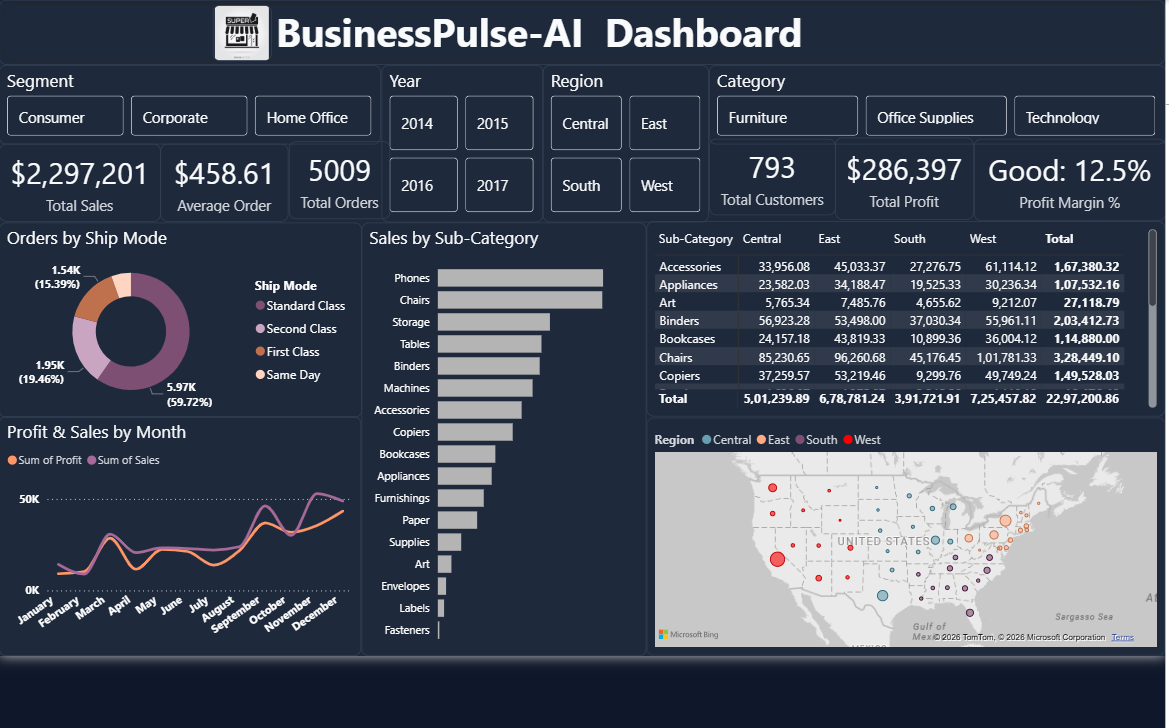

The dashboard page shown, as its layout file describes it:
{"tool":"powerbi","page":{"name":"Page 1","canvas":[1280,720],"ordinal":0},"visuals":[{"type":"shape","box":[0,0,1280.3,71.4],"z":0},{"type":"image","box":[234.6,5.5,64.5,61.7],"z":1000},{"type":"textbox","box":[299.1,0,981.1,71.4],"z":2000},{"type":"card","fields":{"Values":["Sample - Superstore.Total Sales"]},"box":[0,157.7,177.3,85.6],"z":3000},{"type":"advancedSlicerVisual","fields":{"Values":["Sample - Superstore.Order Date.Variation.Date Hierarchy.Year"]},"box":[419.4,70.9,177.3,172.4],"z":4000},{"type":"advancedSlicerVisual","fields":{"Values":["Sample - Superstore.Region"]},"box":[596.7,70.9,182.2,172.4],"z":5000},{"type":"advancedSlicerVisual","fields":{"Values":["Sample - Superstore.Segment"]},"box":[0,70.9,419.4,86.8],"z":6000},{"type":"advancedSlicerVisual","fields":{"Values":["Sample - Superstore.Category"]},"box":[778.9,70.9,501.4,86.8],"z":7000},{"type":"card","fields":{"Values":["Sample - Superstore.Total Profit"]},"box":[918.3,150.4,151.6,90.5],"z":8000},{"type":"card","fields":{"Values":["Sample - Superstore.Profit Margin %"]},"box":[1070,152.9,210.3,90.5],"z":9000},{"type":"card","fields":{"Values":["Sample - Superstore.Average Order"]},"box":[177.3,157.7,140.6,85.6],"z":10000},{"type":"card","fields":{"Values":["Sample - Superstore.Total Orders"]},"box":[317.9,155.3,111.3,85.6],"z":11000},{"type":"card","fields":{"Values":["Sample - Superstore.Total Customers"]},"box":[778.9,152.9,139.4,84.4],"z":12000},{"type":"lineChart","title":"Profit & Sales by Month","fields":{"Category":["Sample - Superstore.Order Date.Variation.Date Hierarchy.Month"],"Y":["Sum(Sample - Superstore.Profit)"],"Y2":["Sum(Sample - Superstore.Sales)"]},"box":[0,456.9,397.9,263.5],"z":13000},{"type":"map","fields":{"Category":["Sample - Superstore.State"],"Series":["Sample - Superstore.Region"],"Size":["Sample - Superstore.Total Orders"]},"box":[710.6,458.4,569.4,261.8],"z":14000},{"type":"donutChart","title":"Orders by Ship Mode","fields":{"Category":["Sample - Superstore.Ship Mode"],"Y":["CountNonNull(Sample - Superstore.Order ID)"]},"box":[0,243.7,398.1,214.7],"z":15000},{"type":"clusteredBarChart","title":"Sales by Sub-Category","fields":{"Category":["Sample - Superstore.Sub-Category"],"Y":["Sum(Sample - Superstore.Sales)"]},"box":[397.9,244.3,312.9,476.2],"z":16000},{"type":"pivotTable","fields":{"Rows":["Sample - Superstore.Sub-Category"],"Columns":["Sample - Superstore.Region"],"Values":["Sum(Sample - Superstore.Sales)"]},"box":[710.8,242.9,569.5,214.1],"z":17000}]}

Visuals, with their boxes on the page's 1280x720 design canvas (x1, y1, x2, y2). These are canvas units, not pixel positions in the 1169x728 screenshot, which may show the page scaled, cropped or inside an application window:
shape: crop(0, 0, 1280, 71)
image: crop(235, 6, 299, 67)
textbox: crop(299, 0, 1280, 71)
card - Sample - Superstore.Total Sales: crop(0, 158, 177, 243)
advancedSlicerVisual - Sample - Superstore.Order Date.Variation.Date Hierarchy.Year: crop(419, 71, 597, 243)
advancedSlicerVisual - Sample - Superstore.Region: crop(597, 71, 779, 243)
advancedSlicerVisual - Sample - Superstore.Segment: crop(0, 71, 419, 158)
advancedSlicerVisual - Sample - Superstore.Category: crop(779, 71, 1280, 158)
card - Sample - Superstore.Total Profit: crop(918, 150, 1070, 241)
card - Sample - Superstore.Profit Margin %: crop(1070, 153, 1280, 243)
card - Sample - Superstore.Average Order: crop(177, 158, 318, 243)
card - Sample - Superstore.Total Orders: crop(318, 155, 429, 241)
card - Sample - Superstore.Total Customers: crop(779, 153, 918, 237)
"Profit & Sales by Month" lineChart: crop(0, 457, 398, 720)
map - Sample - Superstore.State x Sample - Superstore.Region: crop(711, 458, 1280, 720)
"Orders by Ship Mode" donutChart: crop(0, 244, 398, 458)
"Sales by Sub-Category" clusteredBarChart: crop(398, 244, 711, 720)
pivotTable - Sample - Superstore.Sub-Category x Sample - Superstore.Region: crop(711, 243, 1280, 457)
